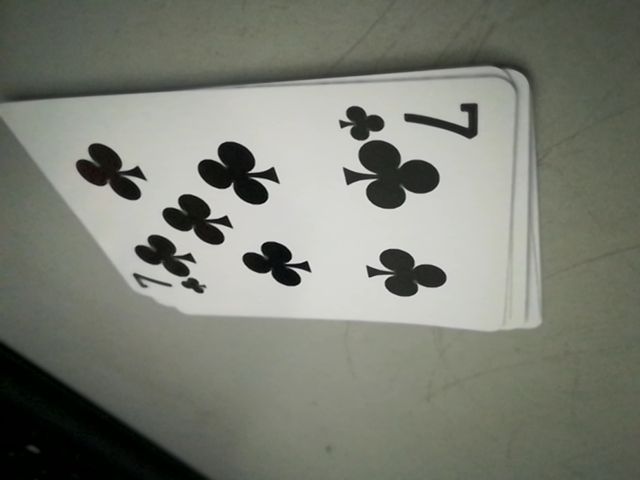mh 7: (337, 91, 484, 141), (126, 265, 201, 302)
